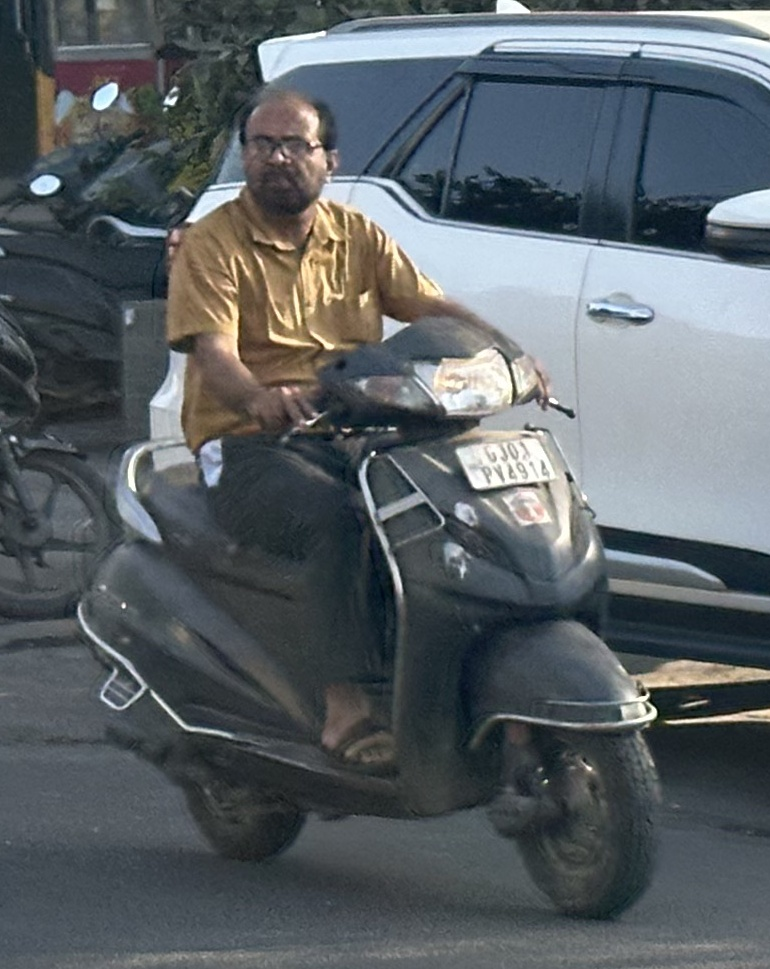BikeWithRider: (71, 80, 676, 929)
NoHelmet: (222, 88, 355, 212)
